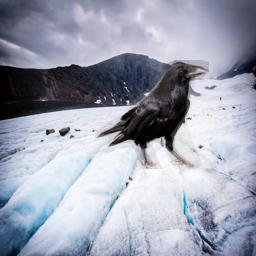Crow: (95, 60, 209, 169)
